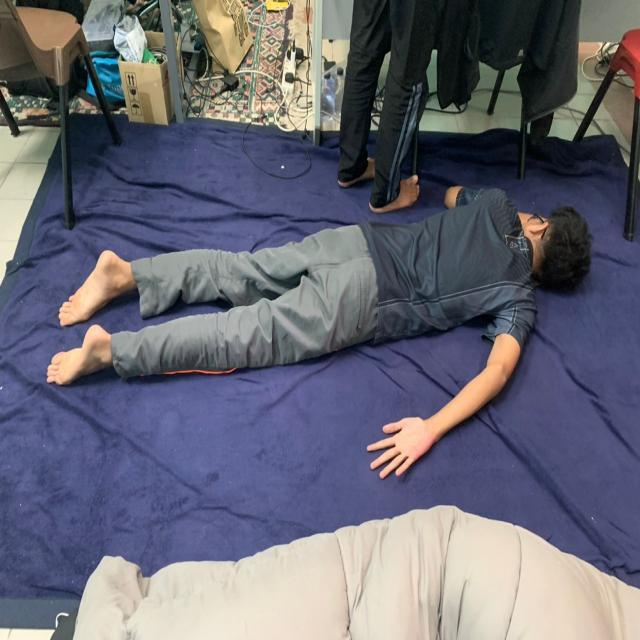fall: (42, 184, 590, 480)
